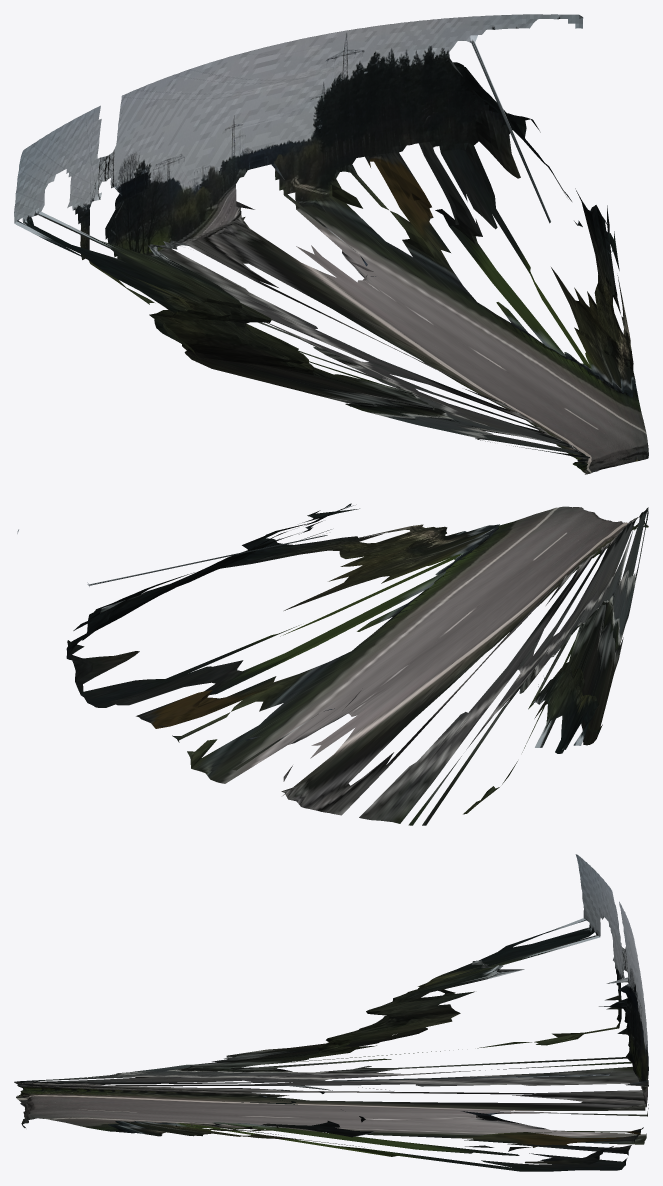
3 renders of one model, top to bottom at view 1: azimuth 30°, elevation 25°; view 2: azimuth 150°, elevation 25°; view 3: azimuth 270°, elevation 25°, orthographic. The views are drawn at different scales.
Visible parts, largest first — view 1: defaultobject; view 2: defaultobject; view 3: defaultobject.
Boxes of the visible parts, x1,y1,x2,y2 form: defaultobject: (14, 14, 648, 474); defaultobject: (17, 503, 648, 825); defaultobject: (14, 854, 648, 1171).
Bounding box in the file's own units: 40.84 × 12.52 × 44.84.
Materials: 1 (1 with a texture image).
